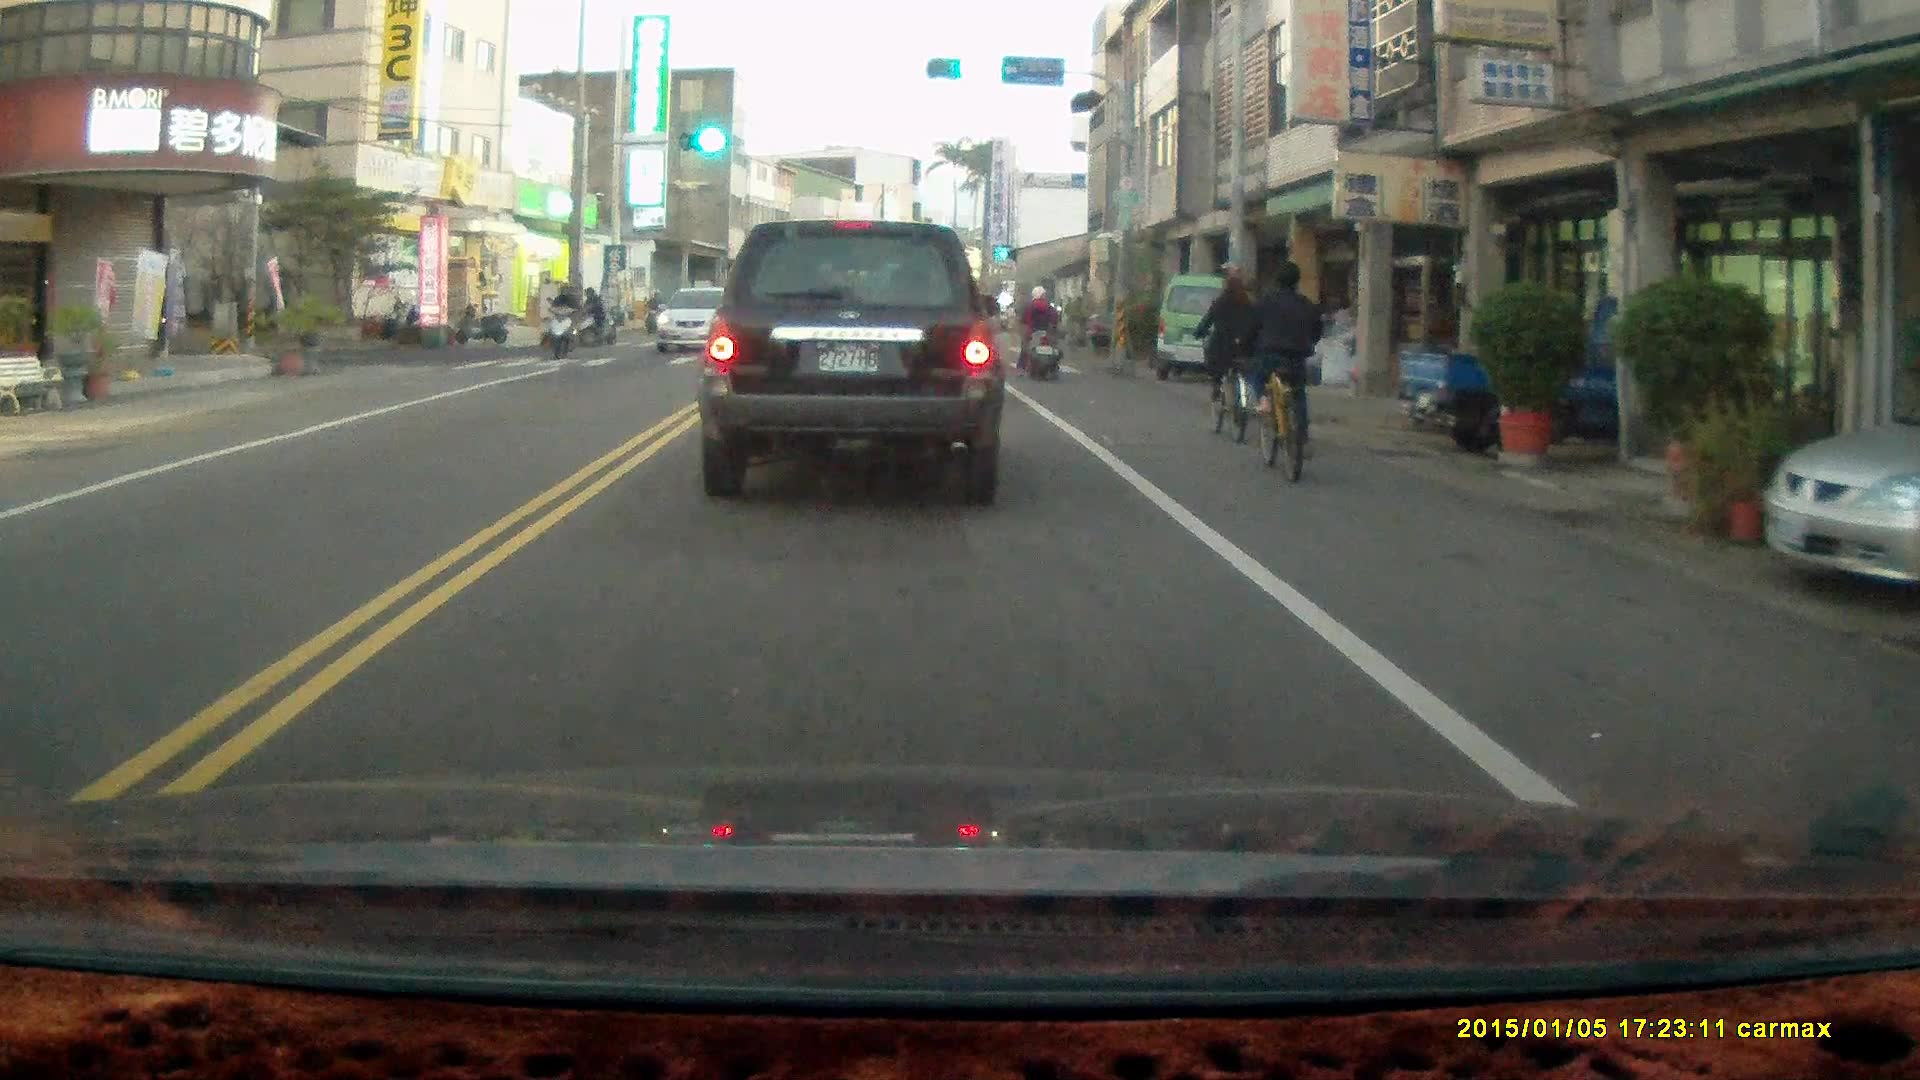rider: (1237, 256, 1323, 484), (1193, 276, 1255, 441), (1009, 282, 1064, 380), (541, 278, 578, 360), (577, 285, 614, 348), (642, 284, 665, 333)
vehicle: (697, 217, 1008, 503), (1760, 410, 1920, 614), (1158, 277, 1260, 378), (650, 287, 749, 358)
